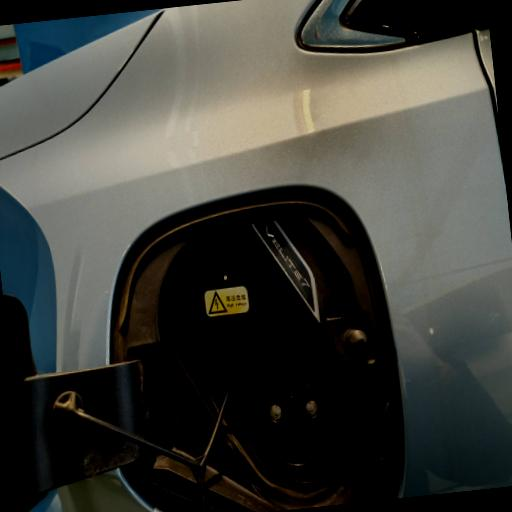DC_charging_port: (248, 353, 341, 473)
DC_hole: (297, 390, 328, 432), (260, 396, 291, 434)
PE: (289, 430, 308, 454)
